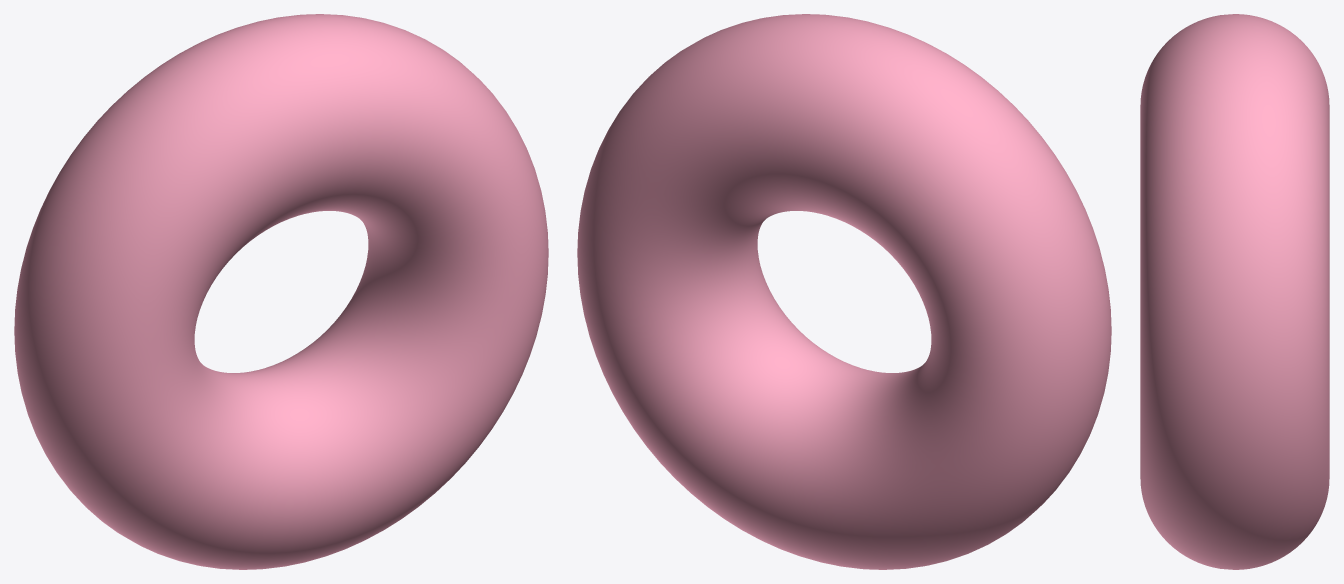
3 renders of one model, left to right at view 1: azimuth 30°, elevation 25°; view 2: azimuth 150°, elevation 25°; view 3: azimuth 270°, elevation 25°, orthographic. The views are drawn at different scales.
Parts seen in each view (by area): view 1: root; view 2: root; view 3: root.
Part boxes in pixels (x1,y1,x2,y2): root: [14, 14, 548, 569]; root: [577, 14, 1111, 569]; root: [1140, 14, 1329, 569].
Size of the model in its own units: 0.5708 by 0.5706 by 0.194.
